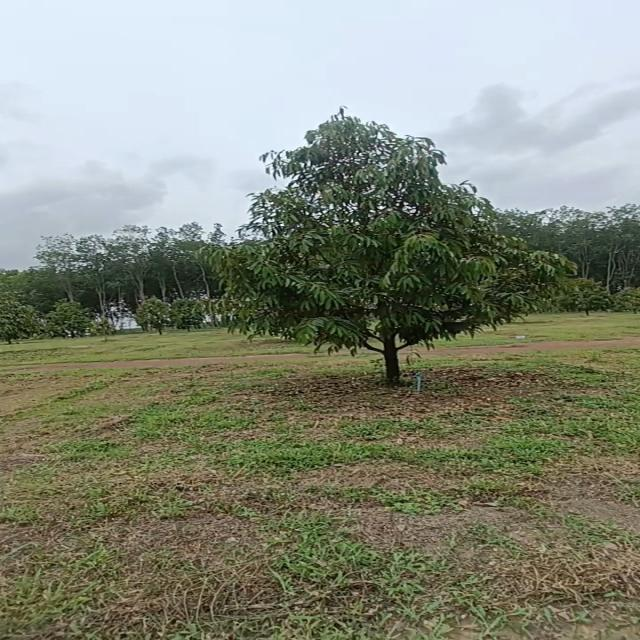Tree: (245, 94, 531, 382)
